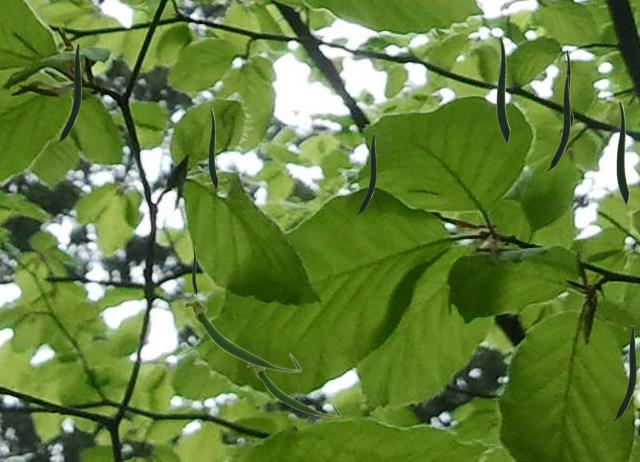french_bean: (182, 299, 301, 372), (246, 364, 340, 417), (55, 43, 80, 142), (611, 325, 635, 420), (545, 75, 569, 170), (355, 133, 375, 214), (496, 35, 509, 143), (616, 100, 628, 204), (208, 108, 217, 189), (565, 49, 572, 125), (192, 246, 196, 294)
